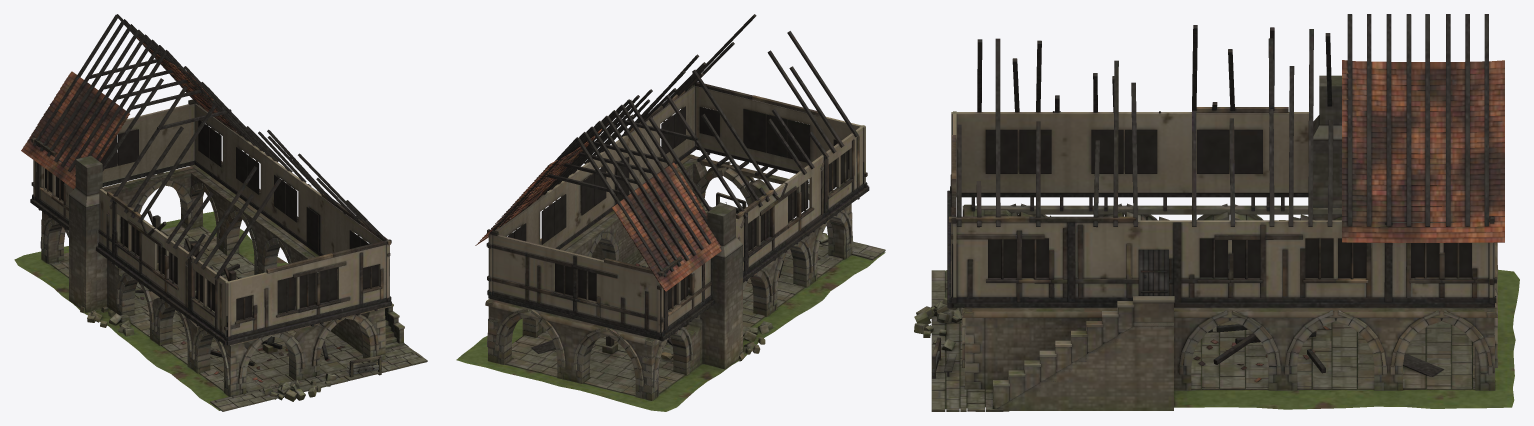
File: guildhall_ruin.glb
3 views of the same model, side by side, from view 1: azimuth 30°, elevation 25°; view 2: azimuth 150°, elevation 25°; view 3: azimuth 270°, elevation 25° (orthographic). The views are drawn at different scales.
Visible parts, largest first — view 1: guildhall_ruin_LOD0; view 2: guildhall_ruin_LOD0; view 3: guildhall_ruin_LOD0.
Part boxes in pixels (x1,y1,x2,y2): guildhall_ruin_LOD0: (14, 14, 427, 411); guildhall_ruin_LOD0: (456, 14, 885, 411); guildhall_ruin_LOD0: (914, 14, 1519, 411).
Size of what is drawn, in the model's own units: 13.58 by 14.16 by 23.84.
Materials: 1 (1 with a texture image).
